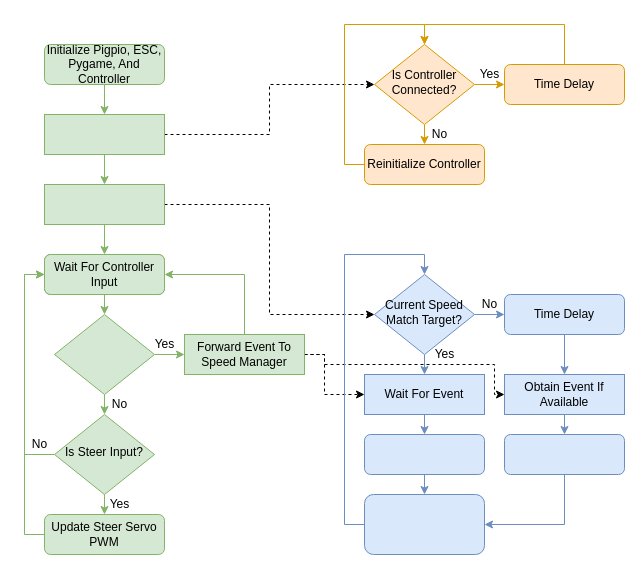
Some shapes in this 642 by 572 pixel diagram are drawn without their labels. Here are the shapes that lost their labels. From the top down, the centre of each, then its label:
point (104, 134): Initialize Controller Manager
point (104, 204): Initialize Speed Manager
point (104, 354): Is Throttle Or Turbo Input?
point (424, 454): Update Target Speed For Inputs
point (564, 454): Update Target Speed If Necessary
point (424, 524): Update Current Speed And PWM, Limited By A Maximum Change
